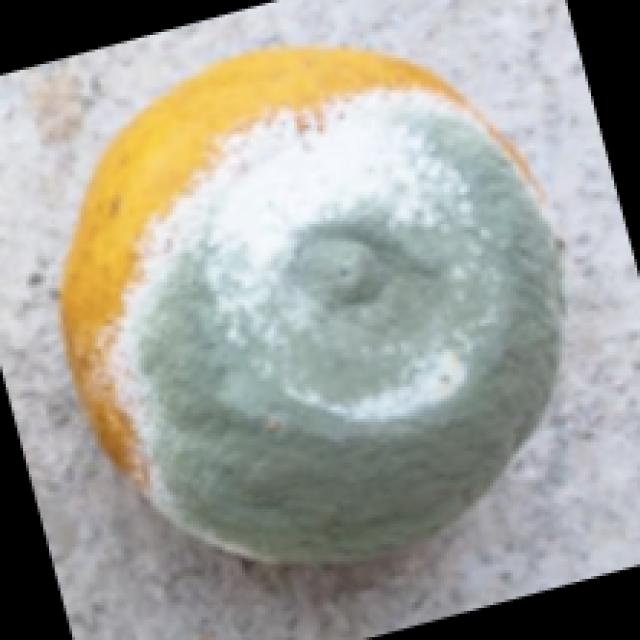sangat_busuk: (69, 48, 561, 556)
